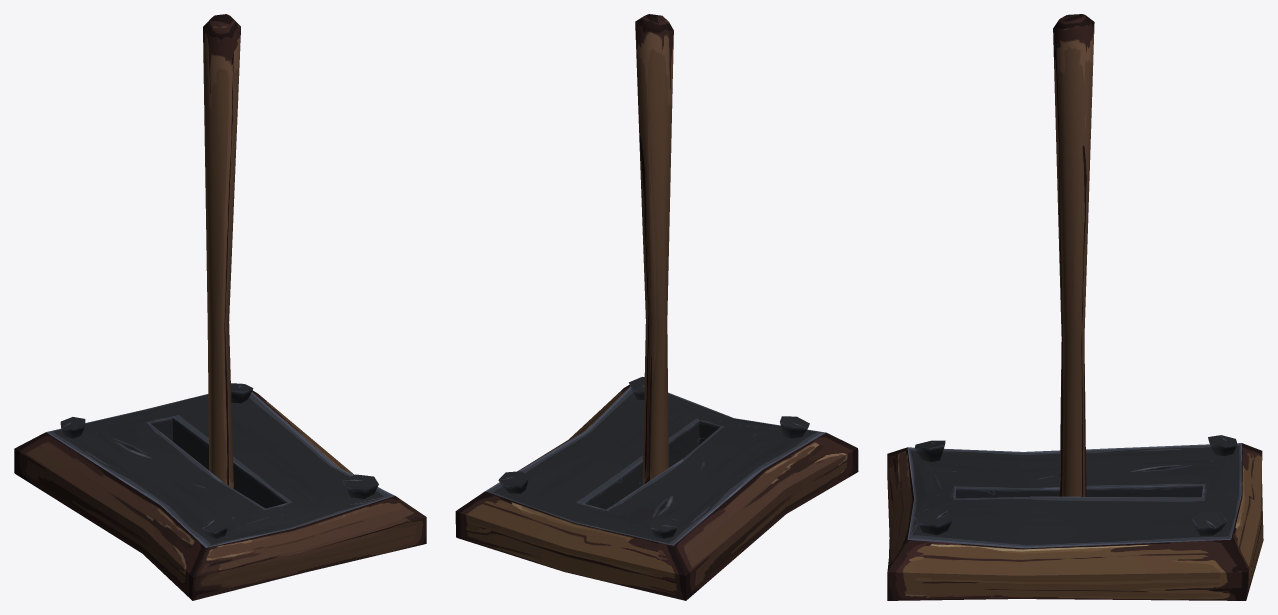
File: SM_PROP_lever_dungeon_04.fbx
The picture shows the model from 3 angles, left to right: view 1: azimuth 30°, elevation 25°; view 2: azimuth 150°, elevation 25°; view 3: azimuth 270°, elevation 25°; orthographic projection. The views are drawn at different scales.
Visible parts, largest first — view 1: SM_PROP_lever_dungeon_04, SM_PROP_lever_handle_dungeon_04; view 2: SM_PROP_lever_dungeon_04, SM_PROP_lever_handle_dungeon_04; view 3: SM_PROP_lever_dungeon_04, SM_PROP_lever_handle_dungeon_04.
Part boxes in pixels (box(x1,y1,x2,y2)): SM_PROP_lever_dungeon_04: box(14, 383, 426, 600); SM_PROP_lever_handle_dungeon_04: box(203, 14, 240, 488); SM_PROP_lever_dungeon_04: box(455, 377, 858, 600); SM_PROP_lever_handle_dungeon_04: box(635, 14, 673, 484); SM_PROP_lever_dungeon_04: box(887, 435, 1263, 600); SM_PROP_lever_handle_dungeon_04: box(1053, 14, 1094, 496).
Size of the model in its own units: 58.44 by 116 by 75.12.
